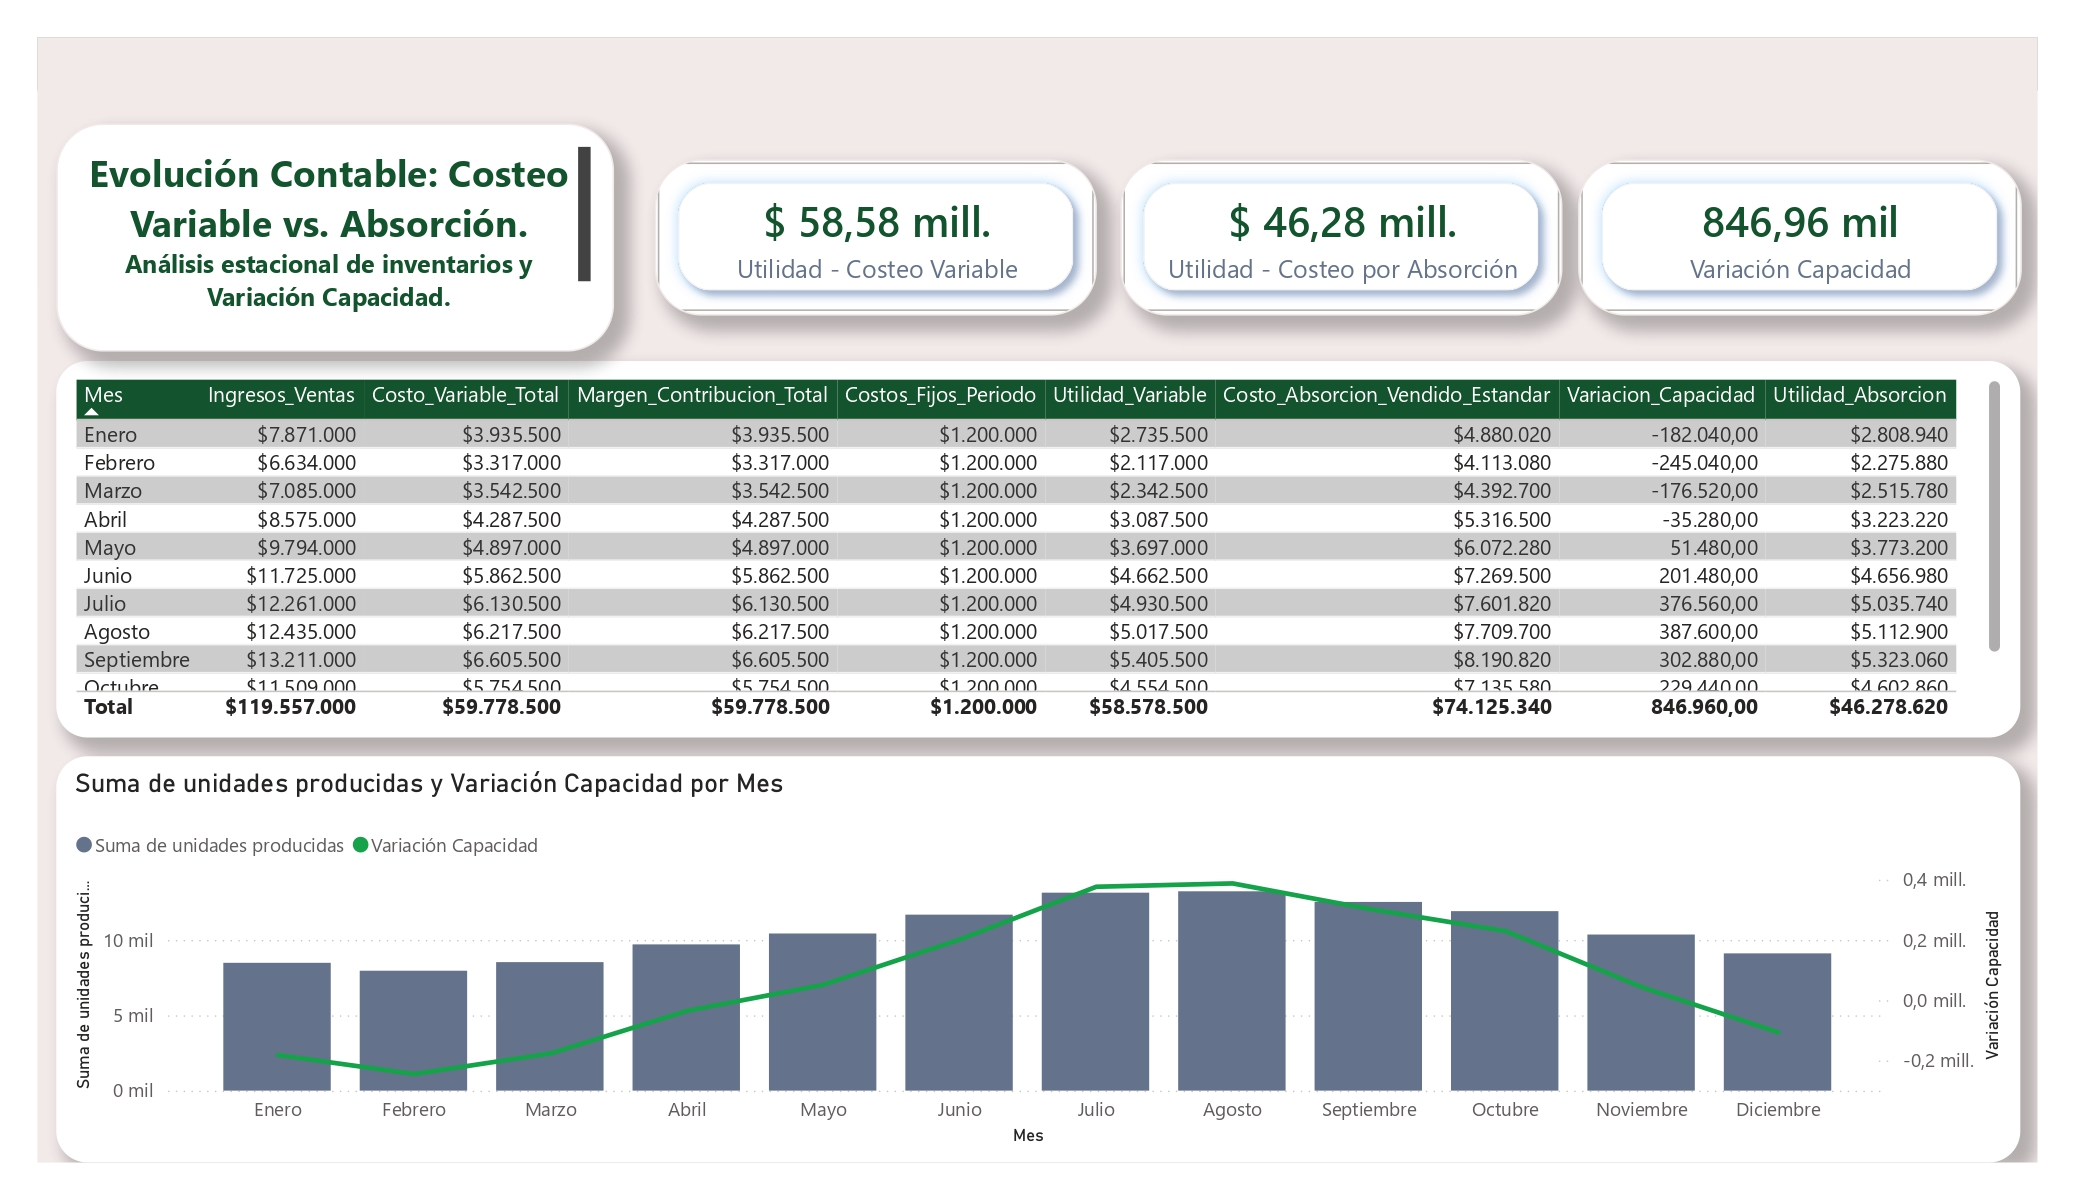

This screenshot's page, from the dashboard's own definition file:
{"tool":"powerbi","page":{"name":"Gestión y Conciliación","canvas":[1280,720],"ordinal":0},"visuals":[{"type":"tableEx","fields":{"Values":["public costos1_dim_tiempo.nombre_mes","_Medidas_Costos1.Ingresos_Ventas","_Medidas_Costos1.Costo_Variable_Total","_Medidas_Costos1.Margen_Contribucion_Total","_Medidas_Costos1.Costos_Fijos_Periodo","_Medidas_Costos1.Utilidad_Variable","_Medidas_Costos1.Costo_Absorcion_Vendido_Estandar","_Medidas_Costos1.Variacion_Capacidad","_Medidas_Costos1.Utilidad_Absorcion"]},"box":[11.6,206.7,1257.8,241.4],"z":0},{"type":"cardVisual","fields":{"Data":["_Medidas_Costos1.Utilidad_Variable"]},"box":[394.7,78.1,283.6,99.9],"z":1000},{"type":"lineClusteredColumnComboChart","fields":{"Category":["public costos1_dim_tiempo.nombre_mes"],"Y":["Sum(public costos1_fact_operaciones.unidades_producidas)"],"Y2":["_Medidas_Costos1.Variacion_Capacidad"]},"box":[11.6,459.8,1257.8,260.2],"z":2000},{"type":"textbox","box":[11.6,54.9,357.1,146],"z":3000},{"type":"cardVisual","fields":{"Data":["_Medidas_Costos1.Utilidad_Absorcion"]},"box":[692.5,78.1,283.6,99.9],"z":4000},{"type":"cardVisual","fields":{"Data":["_Medidas_Costos1.Variacion_Capacidad"]},"box":[986,78.1,283.6,99.9],"z":5000}]}

Visuals, with their boxes on the page's 1280x720 design canvas (x1, y1, x2, y2). These are canvas units, not pixel positions in the 2075x1200 screenshot, which may show the page scaled, cropped or inside an application window:
tableEx - public costos1_dim_tiempo.nombre_mes x _Medidas_Costos1.Ingresos_Ventas: <bbox>12, 207, 1269, 448</bbox>
cardVisual - _Medidas_Costos1.Utilidad_Variable: <bbox>395, 78, 678, 178</bbox>
lineClusteredColumnComboChart - public costos1_dim_tiempo.nombre_mes x Sum(public costos1_fact_operaciones.unidades_producidas): <bbox>12, 460, 1269, 720</bbox>
textbox: <bbox>12, 55, 369, 201</bbox>
cardVisual - _Medidas_Costos1.Utilidad_Absorcion: <bbox>692, 78, 976, 178</bbox>
cardVisual - _Medidas_Costos1.Variacion_Capacidad: <bbox>986, 78, 1270, 178</bbox>
